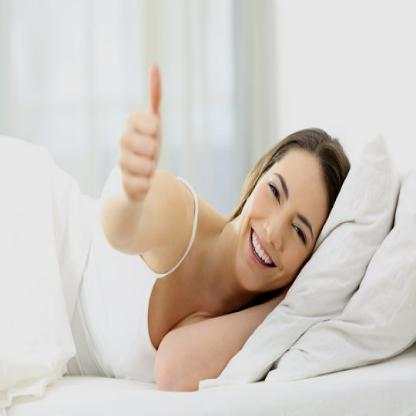Thumbs up: (115, 50, 168, 214)
